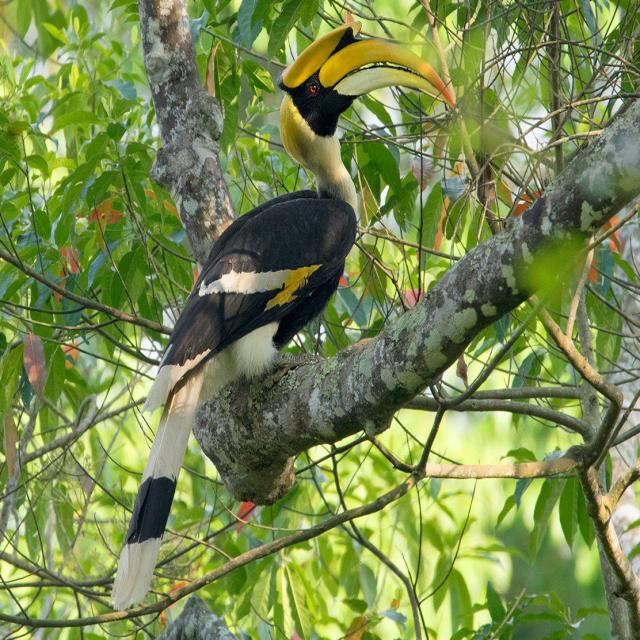Hornbill: (114, 21, 450, 616)
